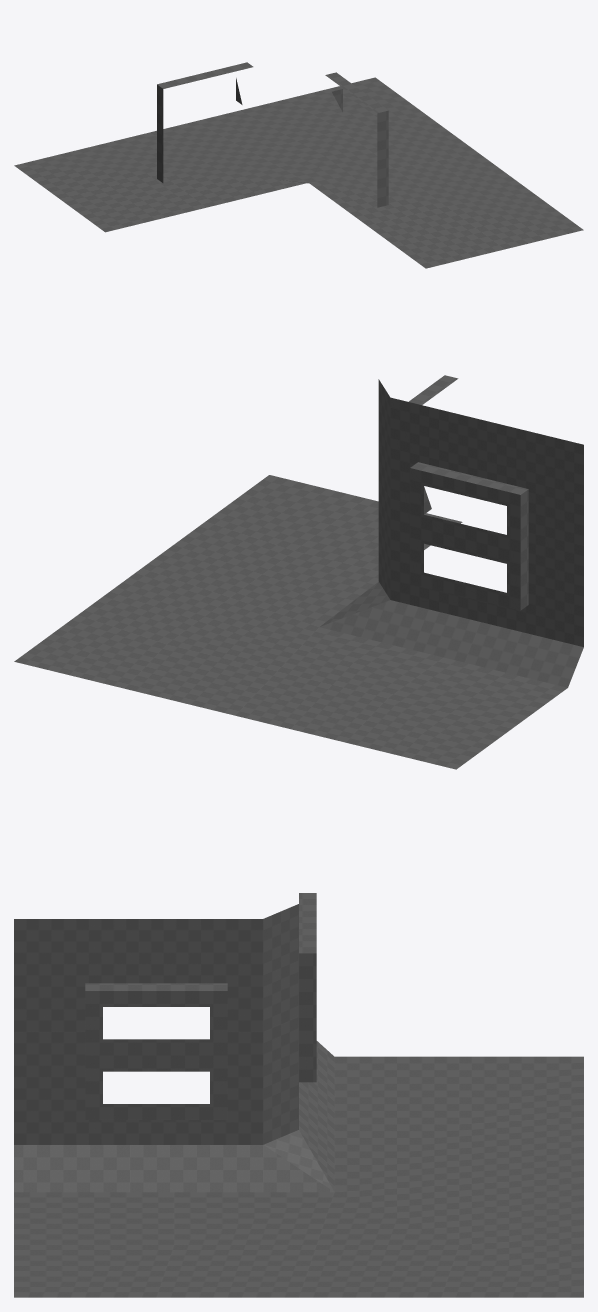
3 views of the same model, one above another, from view 1: azimuth 30°, elevation 25°; view 2: azimuth 150°, elevation 25°; view 3: azimuth 270°, elevation 25° (orthographic). The views are drawn at different scales.
Visible parts, largest first — view 1: CubeUpBackRight3V2; view 2: CubeUpBackRight3V2; view 3: CubeUpBackRight3V2.
Part boxes in pixels (left/top/right/bottom): CubeUpBackRight3V2: left=14, top=62, right=583, bottom=268; CubeUpBackRight3V2: left=14, top=375, right=583, bottom=769; CubeUpBackRight3V2: left=14, top=893, right=583, bottom=1297.
Bounding box in the file's own units: 4 × 2 × 4.
1 material, 1 textured.
